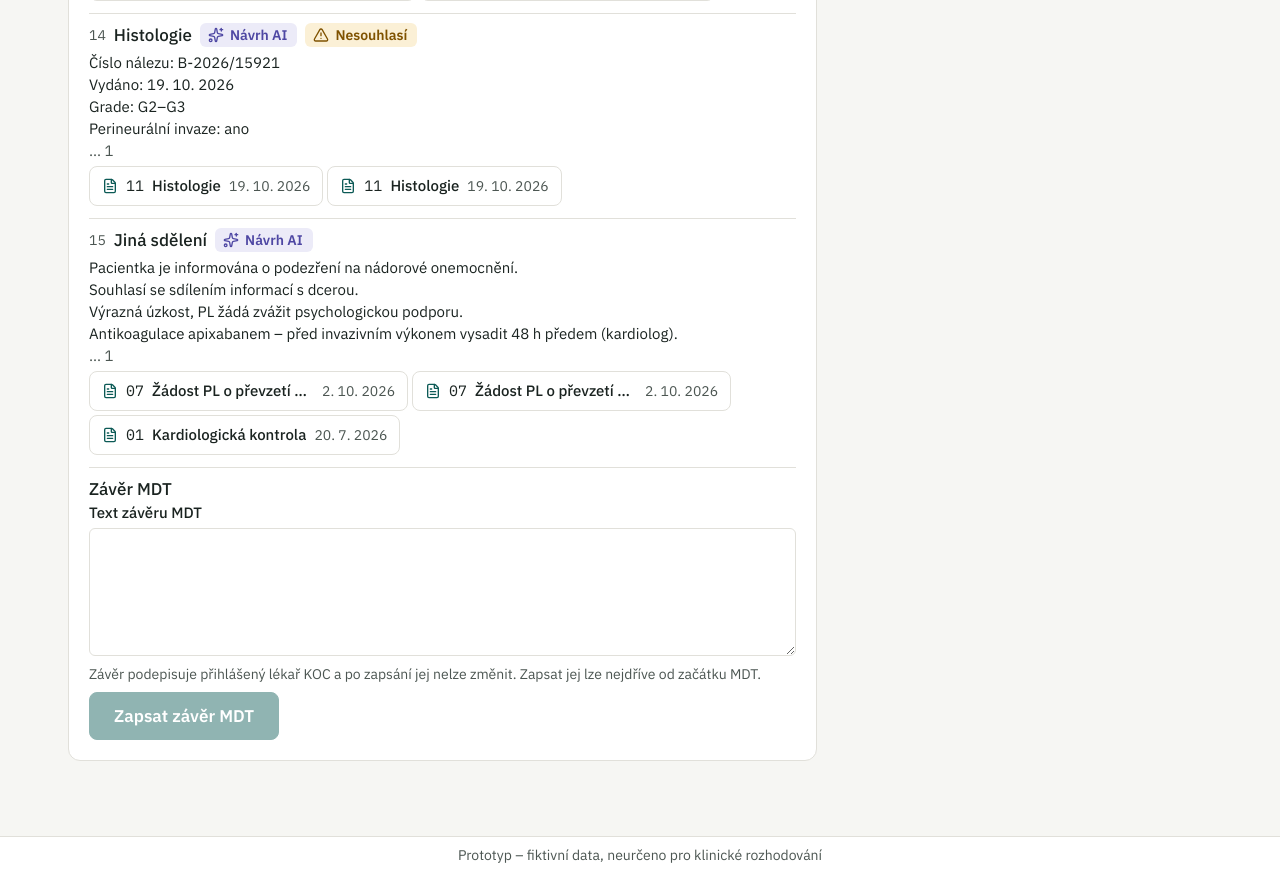
Test: Zapsat závěr MDT (Lékař KOC) › a refused write is not shown as saved; the API words are shown
(page scrolled)
Type "Závěr" into the text box labelled "Text závěru MDT" at {"x": 443, "y": 592}, box [89,528,796,656]
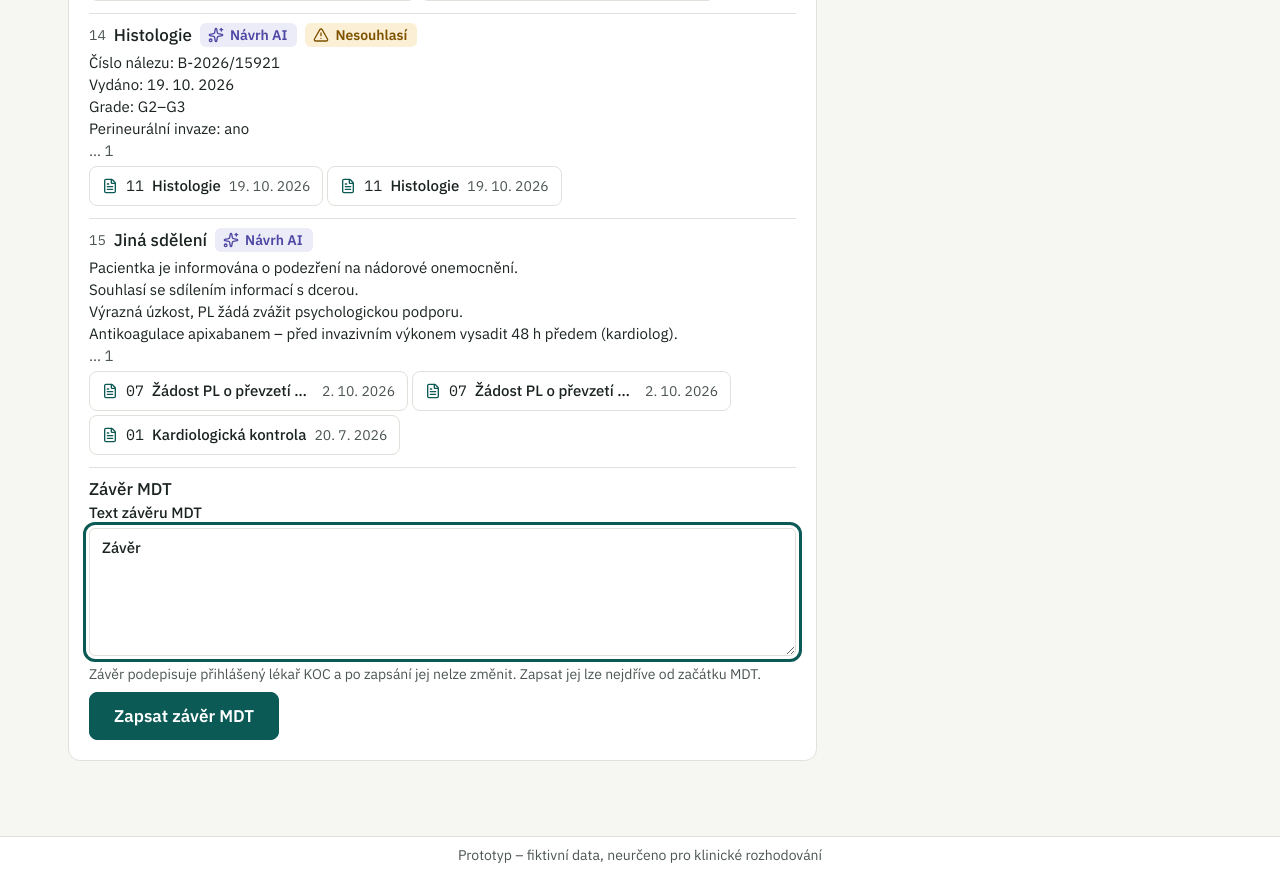
Click the button "Zapsat závěr MDT" at {"x": 184, "y": 716}, box [89,692,279,740]
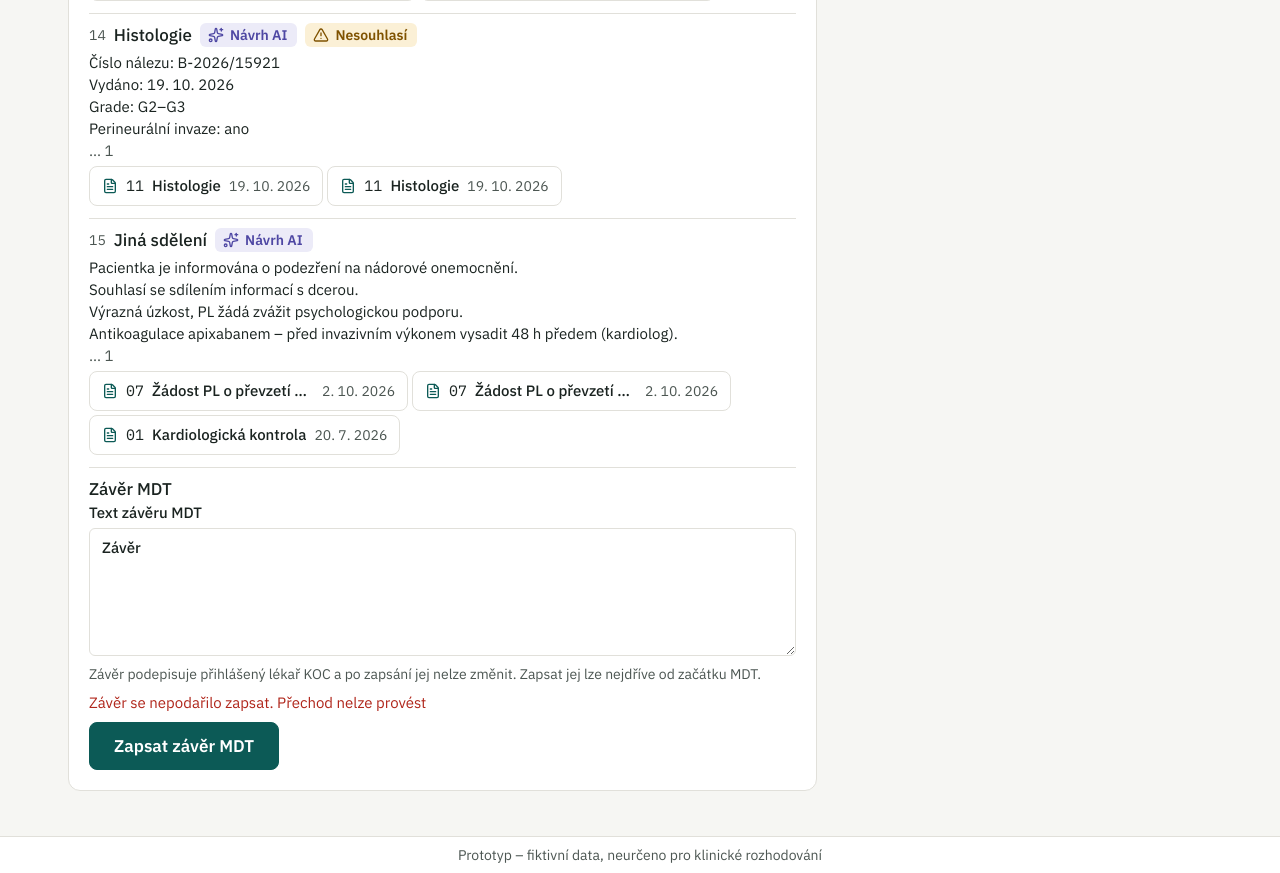
Expected: the form named "Zapsat závěr MDT" is shown, [89,502,796,770]
Result: the message shows "Přechod nelze provést" at [277,693,426,712]
